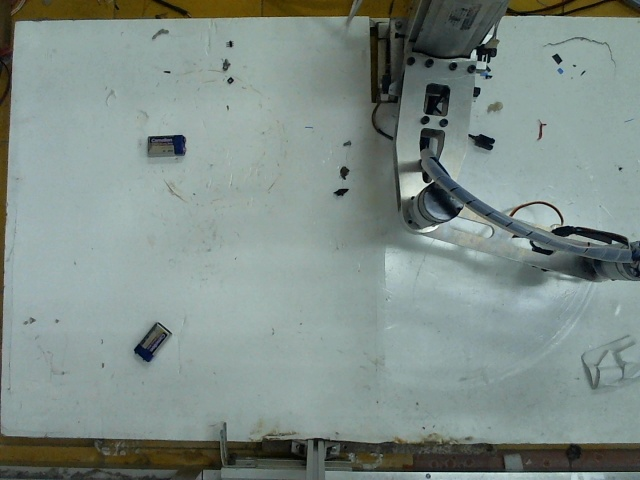battery: (131, 322, 176, 358), (142, 129, 192, 153)
